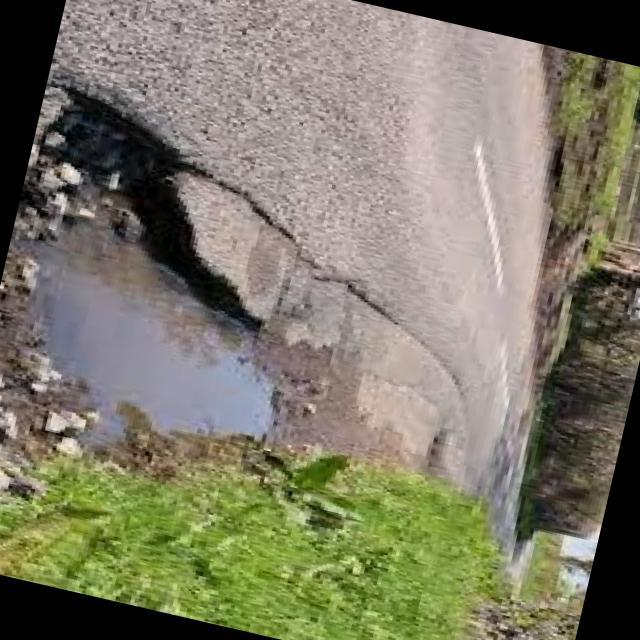pothole: (0, 74, 360, 481)
